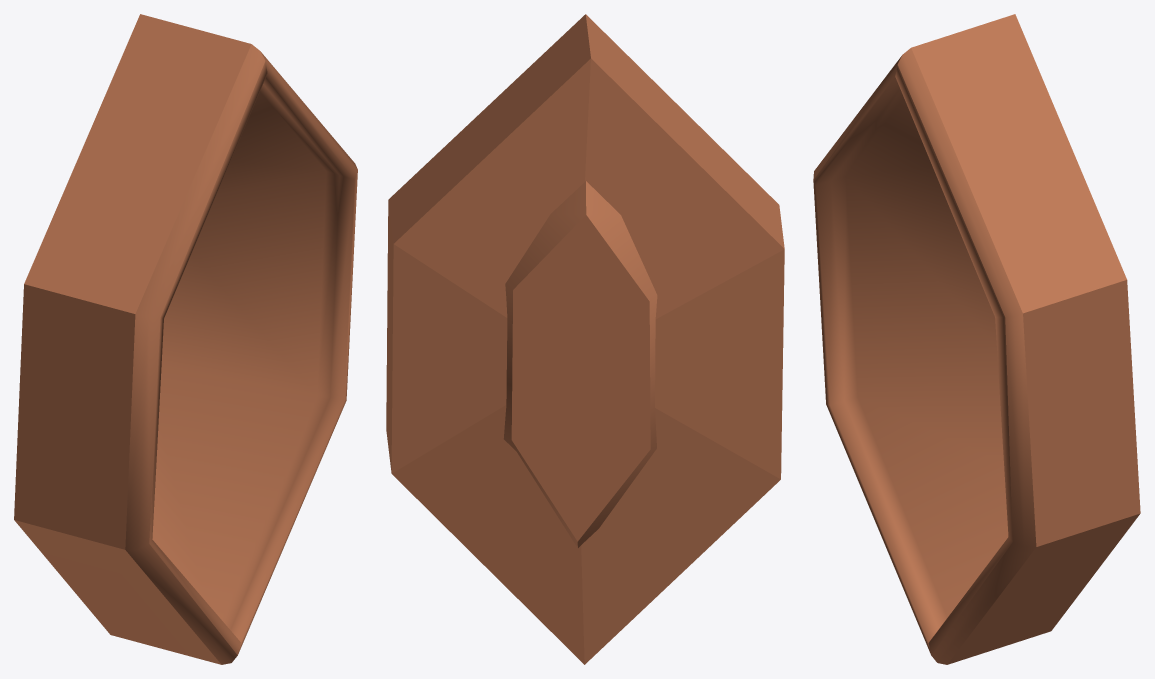
Rendered from TR2_8shapes_Hex_Classic_Metal.001 2.glb.
3 renders of one model, left to right at view 1: azimuth 30°, elevation 25°; view 2: azimuth 150°, elevation 25°; view 3: azimuth 270°, elevation 25°, orthographic. The views are drawn at different scales.
Visible parts, largest first — view 1: TR2_8shapes_Hex_Classic_Metal.001; view 2: TR2_8shapes_Hex_Classic_Metal.001; view 3: TR2_8shapes_Hex_Classic_Metal.001.
Boxes of the visible parts, left/top/right/bottom form: TR2_8shapes_Hex_Classic_Metal.001: left=14, top=14, right=357, bottom=664; TR2_8shapes_Hex_Classic_Metal.001: left=386, top=14, right=784, bottom=664; TR2_8shapes_Hex_Classic_Metal.001: left=813, top=14, right=1140, bottom=664.
Bounding box in the file's own units: 0.4785 × 0.769 × 0.363.
